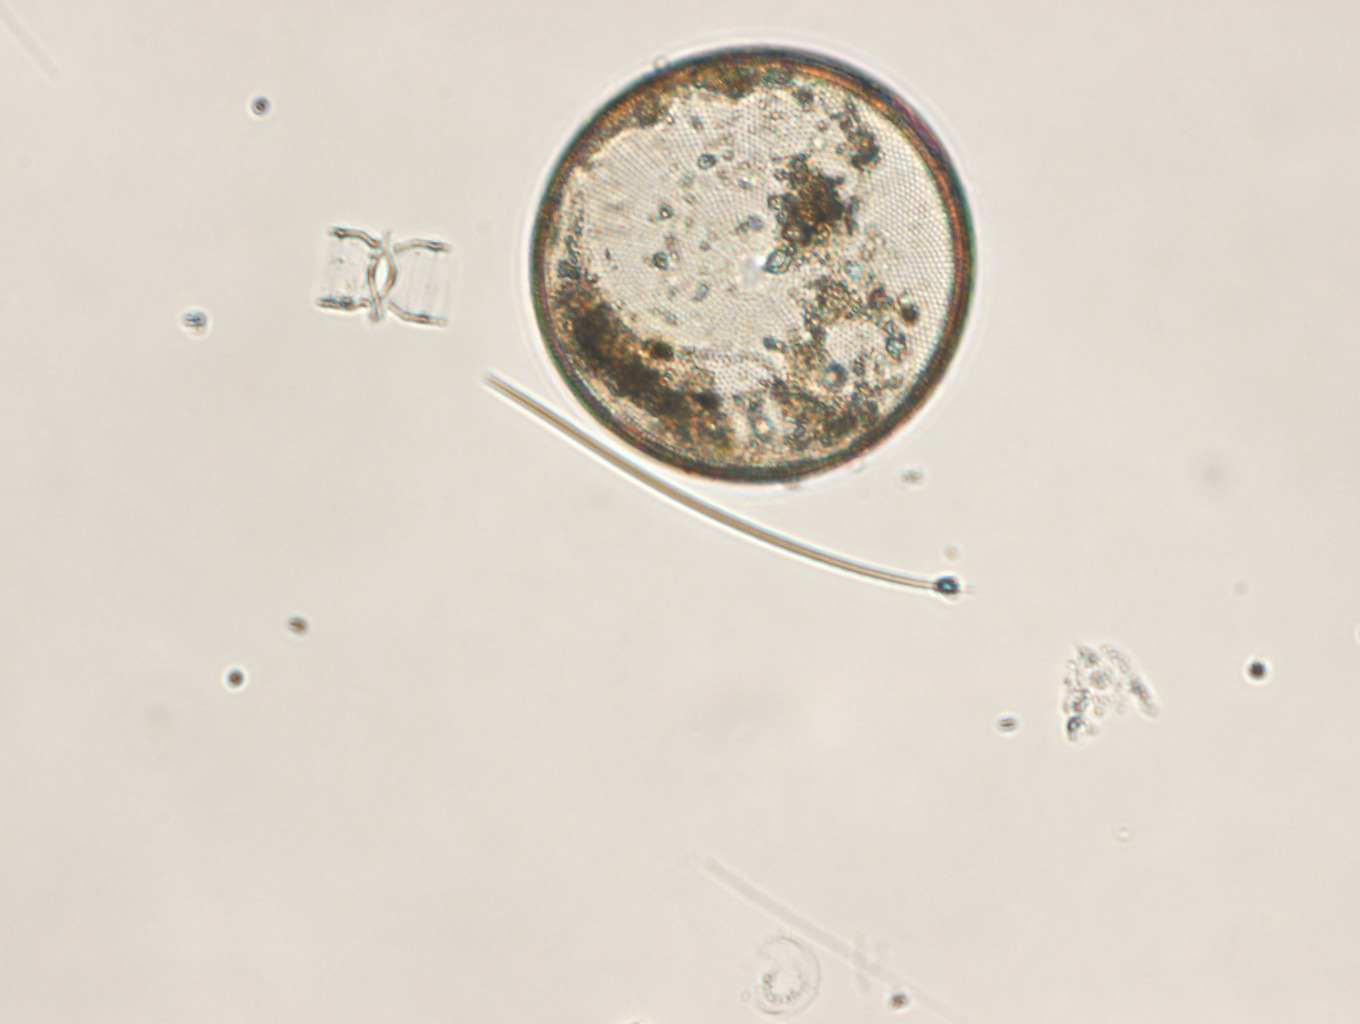coscinodiscus: (525, 40, 976, 485)
